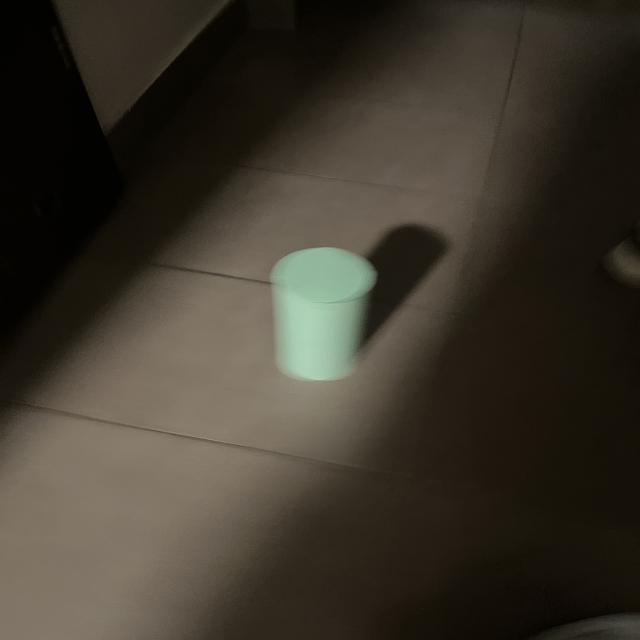meta: (270, 247, 377, 381)
